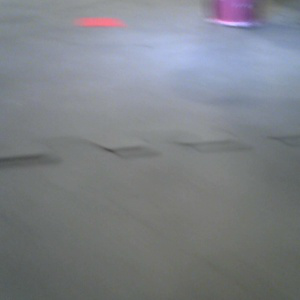right: (202, 1, 268, 30)
